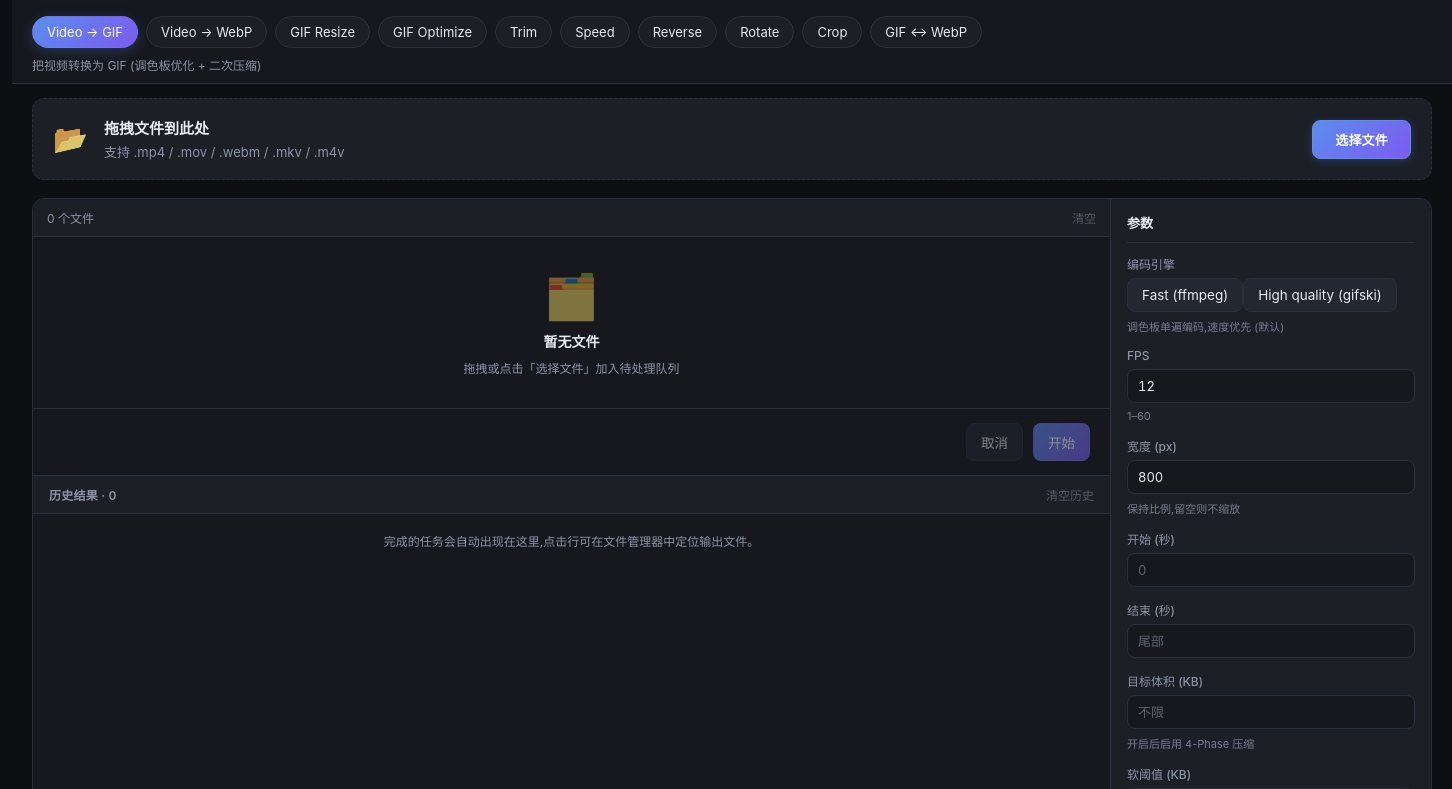
Test case: ToolboxPanel › disables 开始 button while queue is empty and enables it once a job is added
Check: the button "开始" is disabled, box [1033, 423, 1090, 461]
Click the button "选择文件": (1362, 139) [1312, 120, 1411, 158]
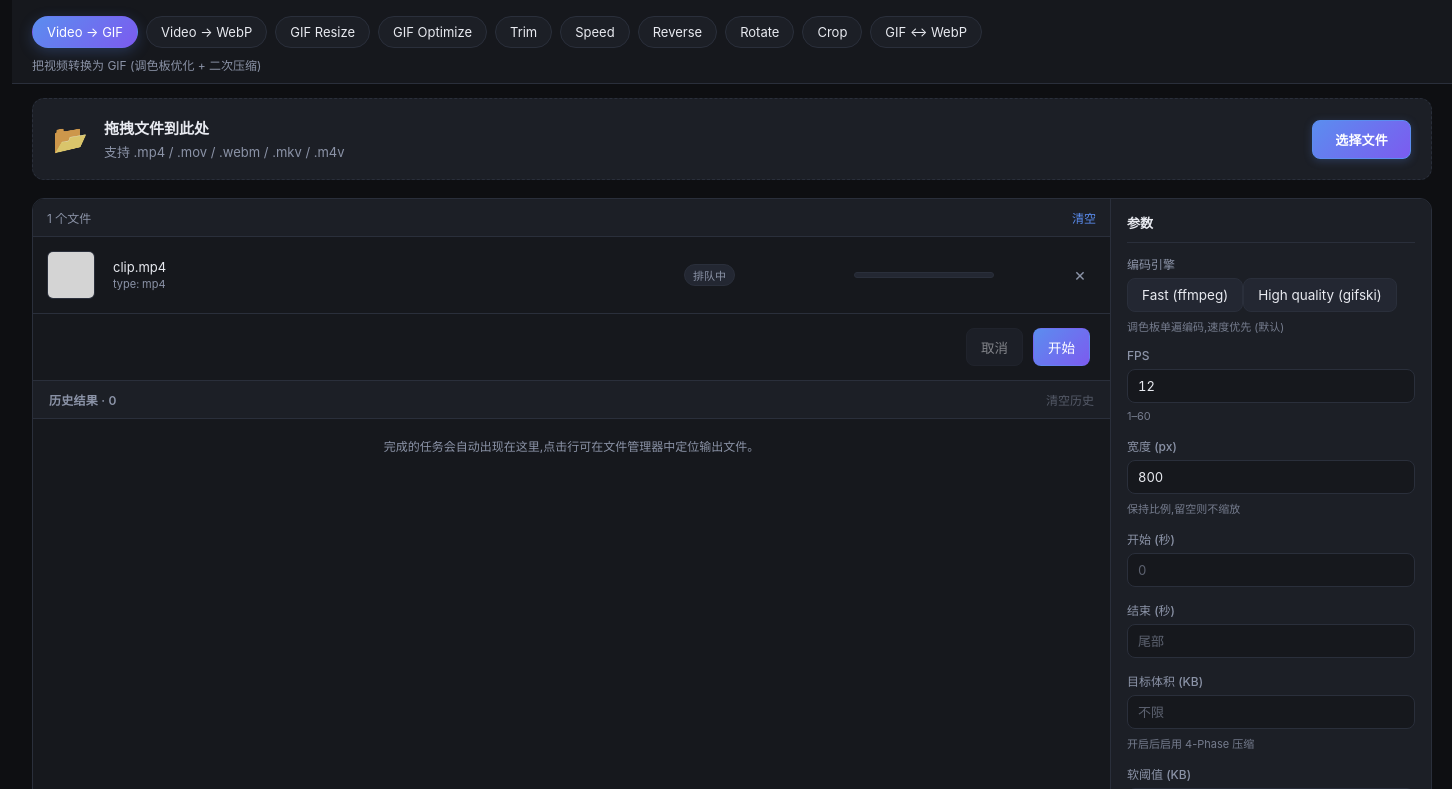
Check: the text "clip.mp4" is shown, box [113, 259, 166, 275]
Check: the button "开始" is enabled, box [1033, 328, 1090, 366]
